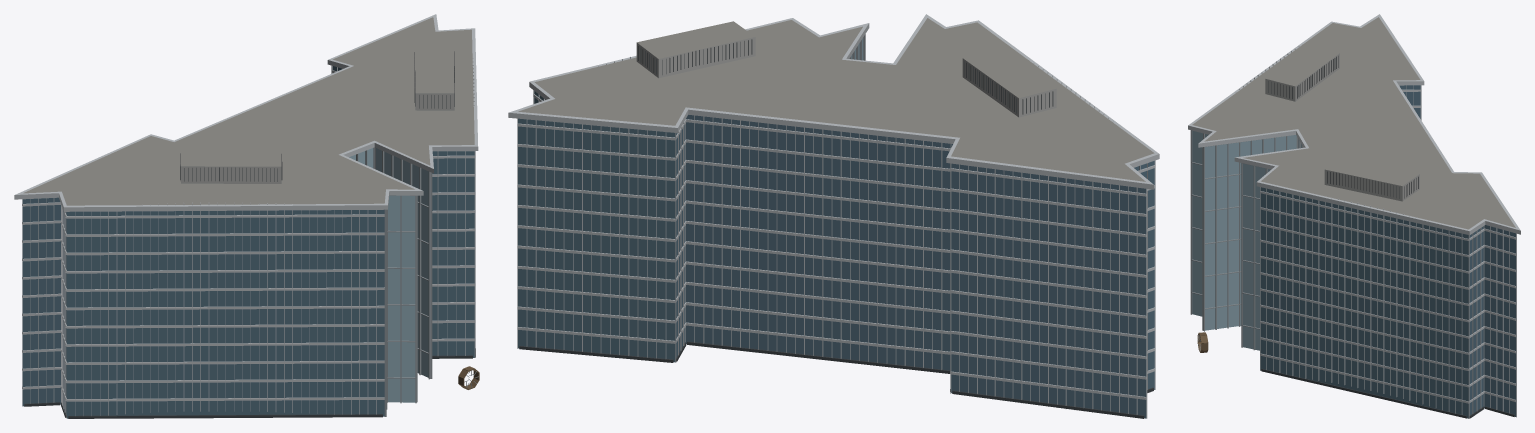
The model's file is waterside_house_paddington.glb.
The picture shows the model from 3 angles, left to right: view 1: azimuth 30°, elevation 25°; view 2: azimuth 150°, elevation 25°; view 3: azimuth 270°, elevation 25°; orthographic projection. The views are drawn at different scales.
Bounding box in the file's own units: 105 × 47.17 × 66.84.
